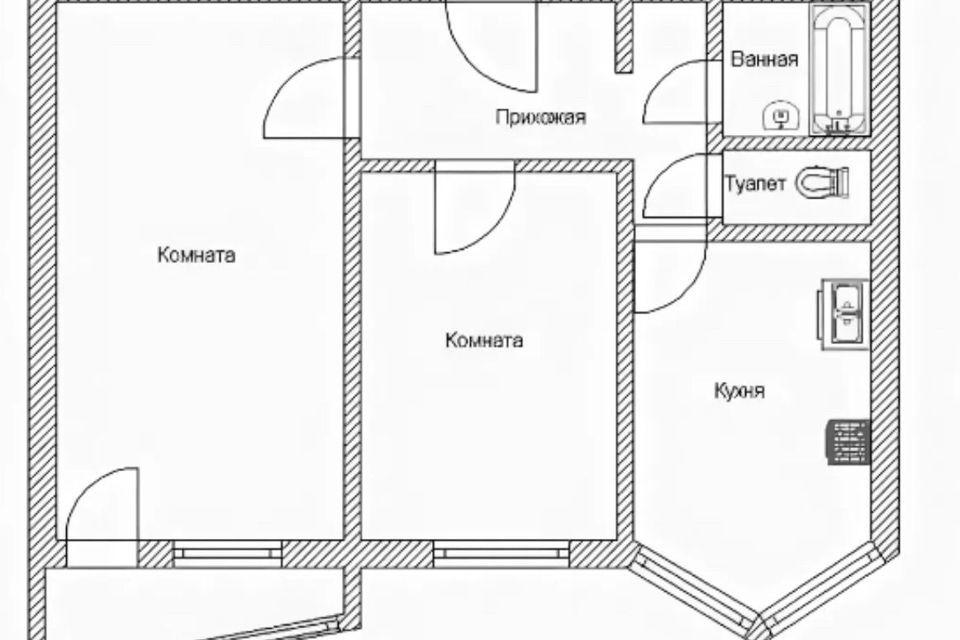balcony: (47, 567, 345, 640)
bathroom: (724, 2, 872, 135)
bedroom: (360, 171, 618, 540)
hallway: (361, 2, 707, 225)
kitchen: (633, 242, 871, 615)
living_room: (55, 2, 345, 539)
toilet: (724, 151, 872, 225)
